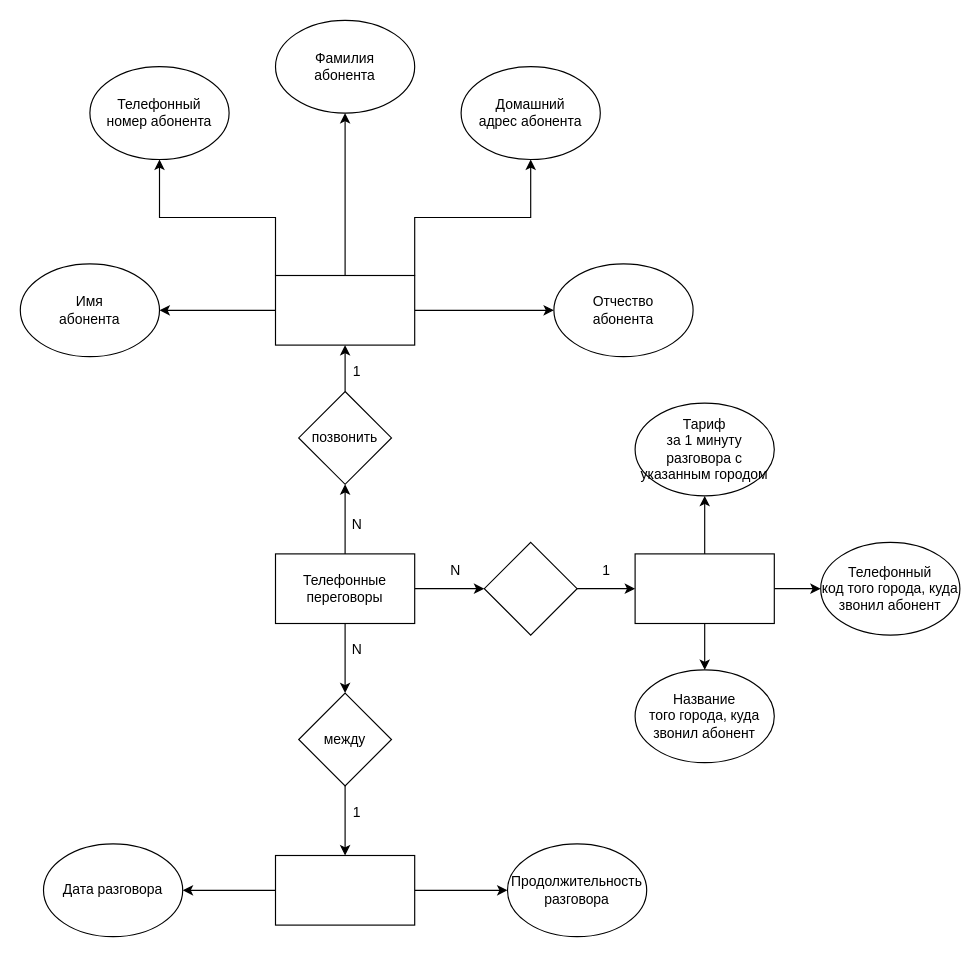
This 980x957 diagram has some shape labels left out. Here are the shapes that lost their labels. From the top down, the centre of each, then its label:
[344,309]: абонет
[530,588]: куда звонил абонен
[704,588]: город
[344,889]: разговор
